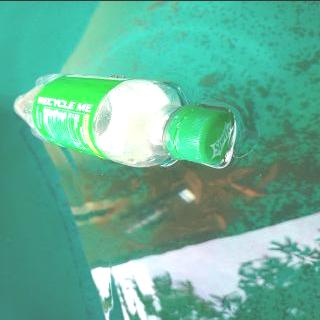bottle: (12, 72, 236, 168)
